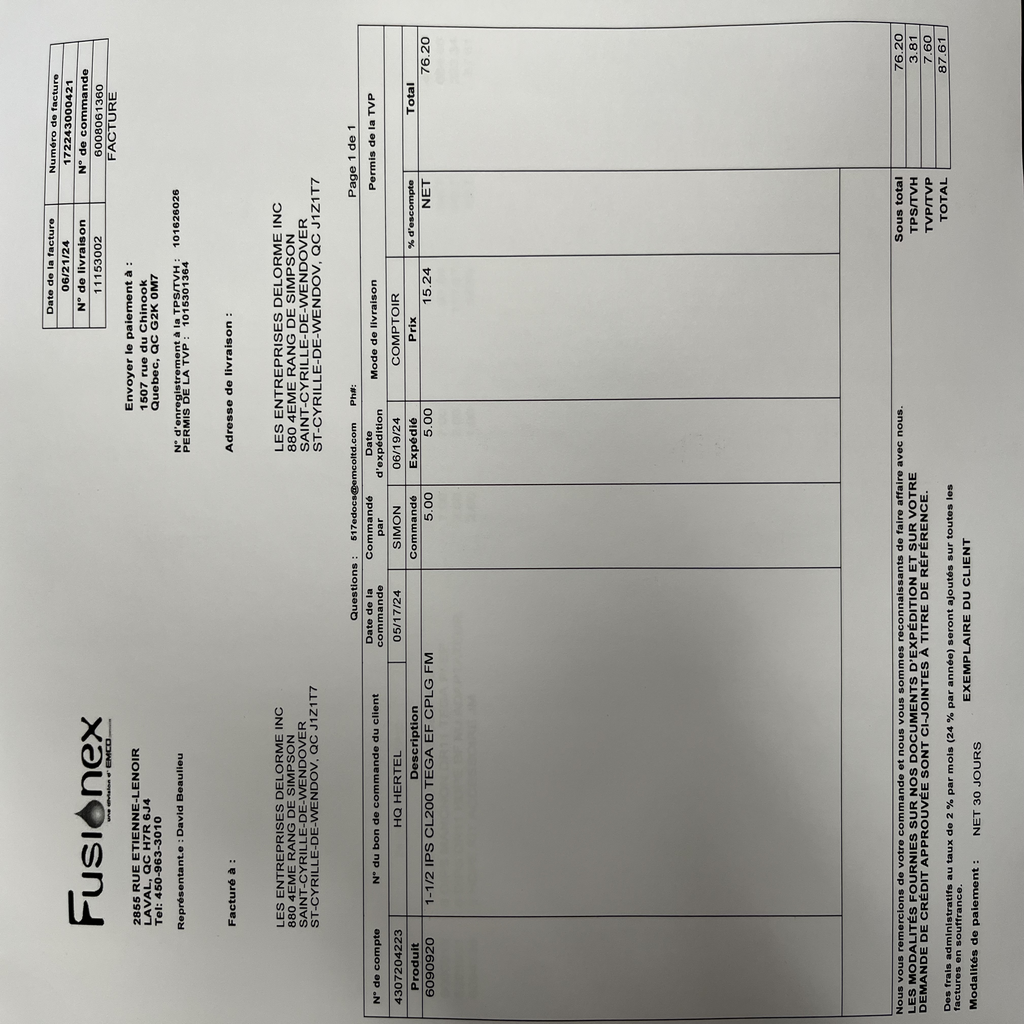recipt: (6, 8, 1016, 1018)
